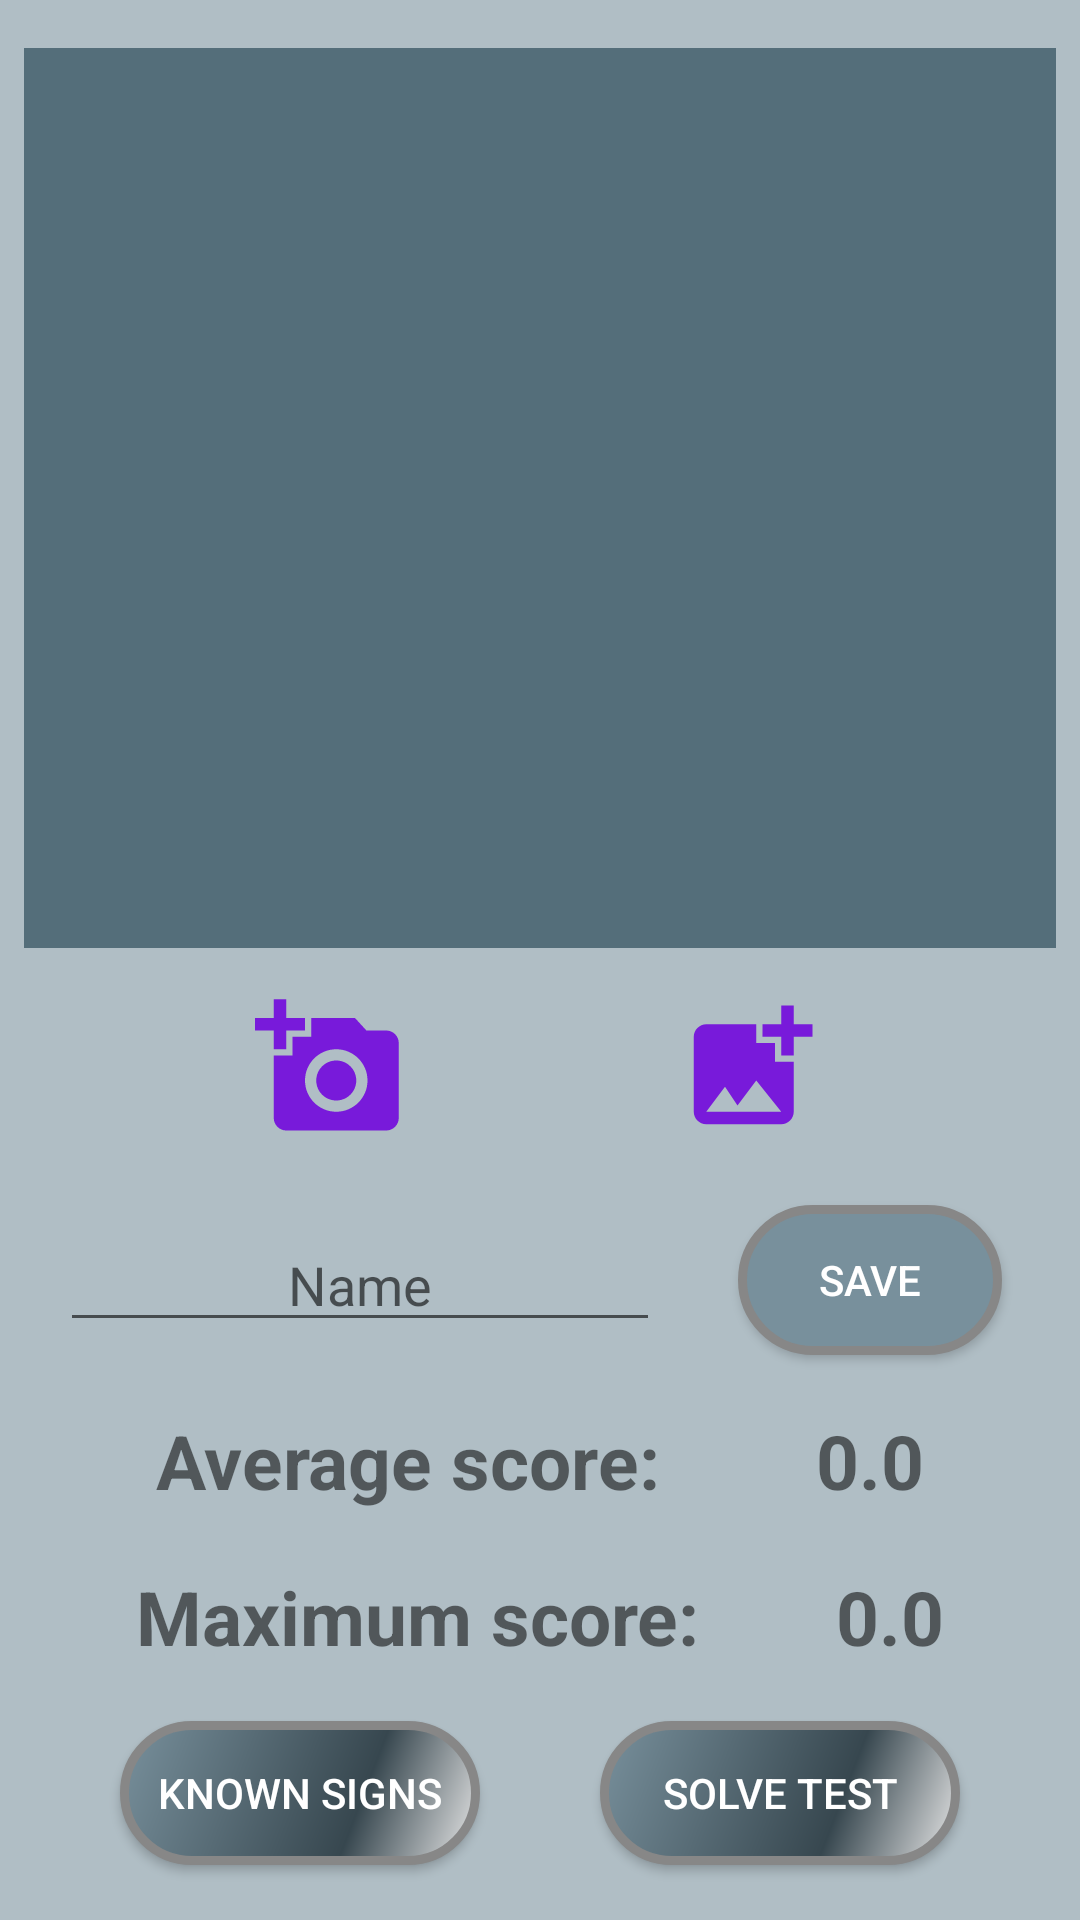

Icon bounding boxes for this 1080 × 1920 phone screenshot, format (x1, y1, x2, y2):
add photo: (255, 999, 399, 1131)
add photo alternate: (693, 1005, 813, 1125)
